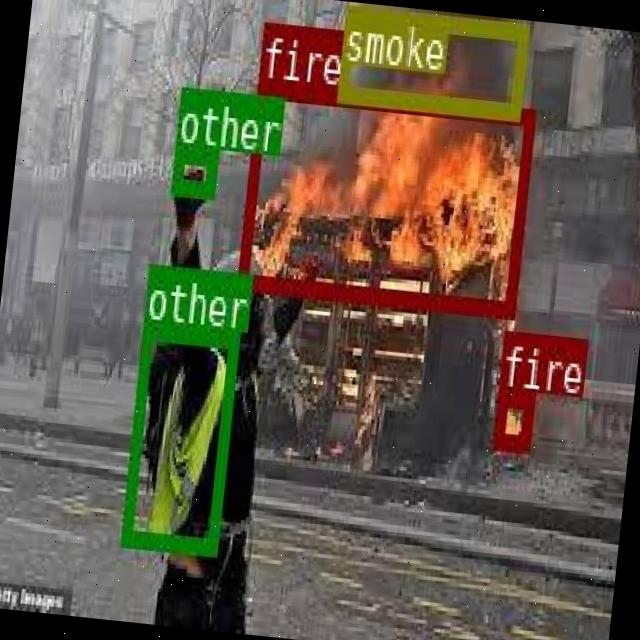fire: (235, 79, 532, 314), (491, 384, 534, 450)
smoke: (336, 4, 526, 117)
